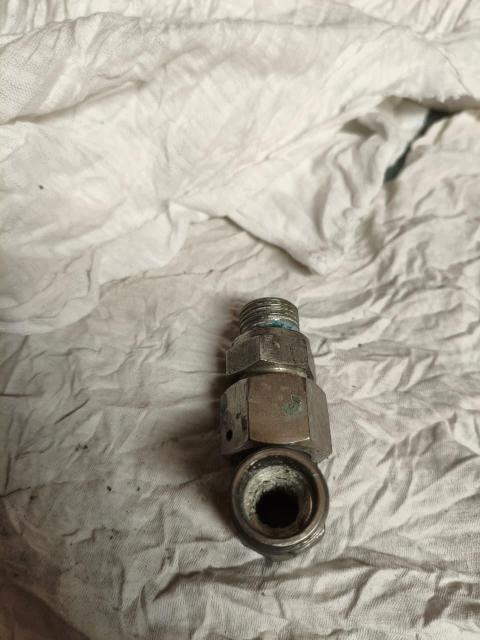Metal: (222, 298, 332, 553)
